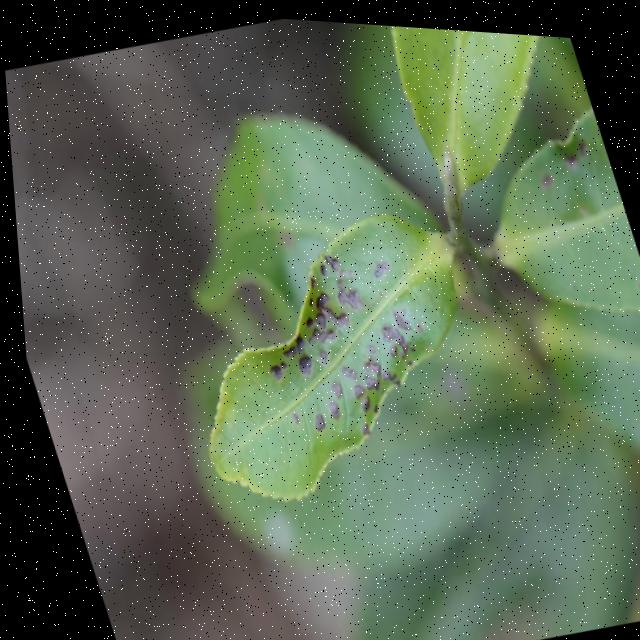Tea red scab: (234, 232, 443, 426)
